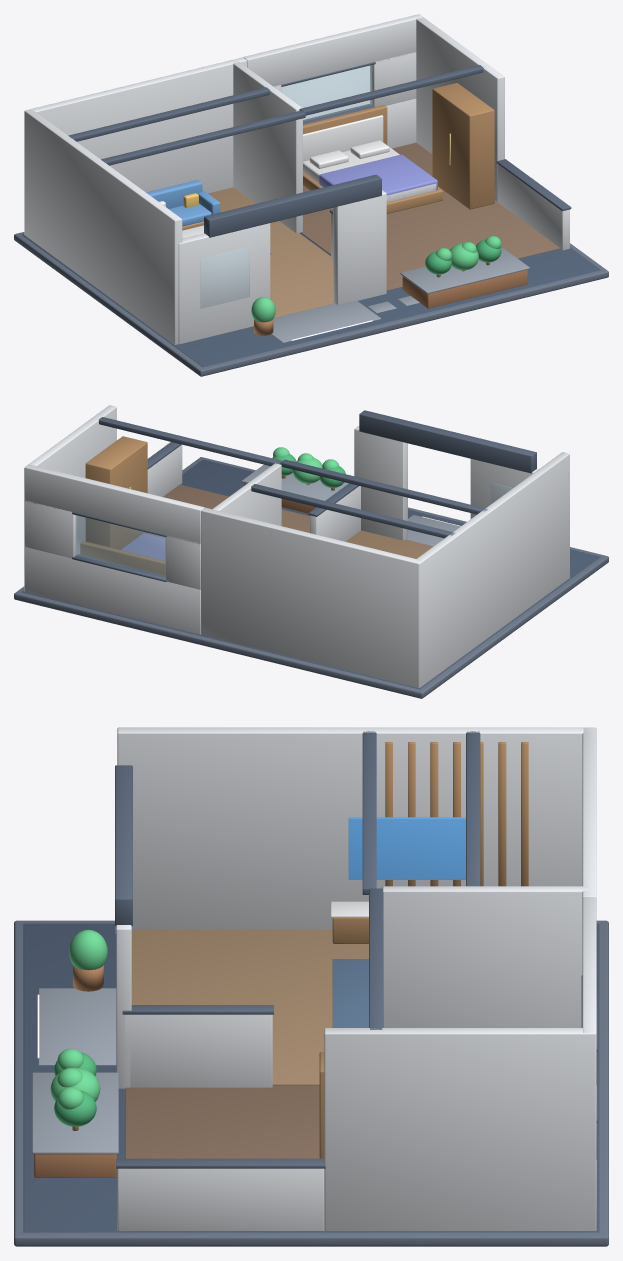
The model's file is smarthome_villa.glb.
3 renders of one model, top to bottom at view 1: azimuth 30°, elevation 25°; view 2: azimuth 150°, elevation 25°; view 3: azimuth 270°, elevation 25°, orthographic. The views are drawn at different scales.
Parts seen in each view (by area): view 1: LeftWall, BackWallLeft, BedroomFloor, FrontLeftWall, MidWallBack, VillaBaseTrim, BedroomWardrobe, VillaBase, BackWallRightTop, RightWallBack, FrontRightPillar, LivingRoomFloor (+23 smaller); view 2: BackWallLeft, LeftWall, BackWallRightBottom, BackWallRightTop, VillaBase, FrontRightPillar, FrontHeader, BedroomWardrobe, BedroomWindowGlass, VillaBaseTrim, RightWallBack, BackWallRightPillarR (+16 smaller); view 3: LeftWall, RightWallBack, MidWallBack, LivingRoomFloor, VillaBase, VillaBaseTrim, BedroomFloor, RightWallFrontLow, MidWallFront, SmartTvPanel, PorchStep1, GardenPlanterRim (+19 smaller).
Part boxes in pixels (x1,y1,x2,y2): LeftWall: (24, 109, 182, 344); BackWallLeft: (25, 57, 246, 193); BedroomFloor: (300, 142, 559, 290); FrontLeftWall: (178, 223, 270, 344); MidWallBack: (233, 61, 302, 232); VillaBaseTrim: (22, 233, 600, 367); BedroomWardrobe: (432, 83, 494, 209); VillaBase: (14, 232, 608, 376); BackWallRightTop: (243, 14, 422, 87); RightWallBack: (416, 16, 504, 201); FrontRightPillar: (333, 190, 386, 304); LivingRoomFloor: (208, 187, 334, 317); BackWallLeft: (201, 507, 421, 687); LeftWall: (416, 452, 569, 687); BackWallRightBottom: (24, 547, 200, 634); BackWallRightTop: (24, 464, 204, 544); VillaBase: (14, 457, 608, 698); FrontRightPillar: (354, 426, 407, 540); FrontHeader: (359, 410, 536, 473); BedroomWardrobe: (85, 436, 147, 549); BedroomWindowGlass: (75, 515, 165, 577); VillaBaseTrim: (22, 459, 600, 689); RightWallBack: (24, 405, 116, 591); BackWallRightPillarR: (24, 500, 77, 558); LeftWall: (117, 727, 594, 929); RightWallBack: (324, 1028, 595, 1230); MidWallBack: (382, 886, 588, 1027); LivingRoomFloor: (131, 929, 368, 1085); VillaBase: (14, 920, 608, 1246); VillaBaseTrim: (23, 923, 599, 1232); BedroomFloor: (125, 1085, 319, 1158); RightWallFrontLow: (117, 1168, 324, 1230); MidWallFront: (125, 1014, 272, 1087); SmartTvPanel: (348, 817, 465, 879); PorchStep1: (38, 988, 116, 1065); GardenPlanterRim: (32, 1072, 118, 1154).
Size of the model in its own units: 11.6 by 3.57 by 9.2.
